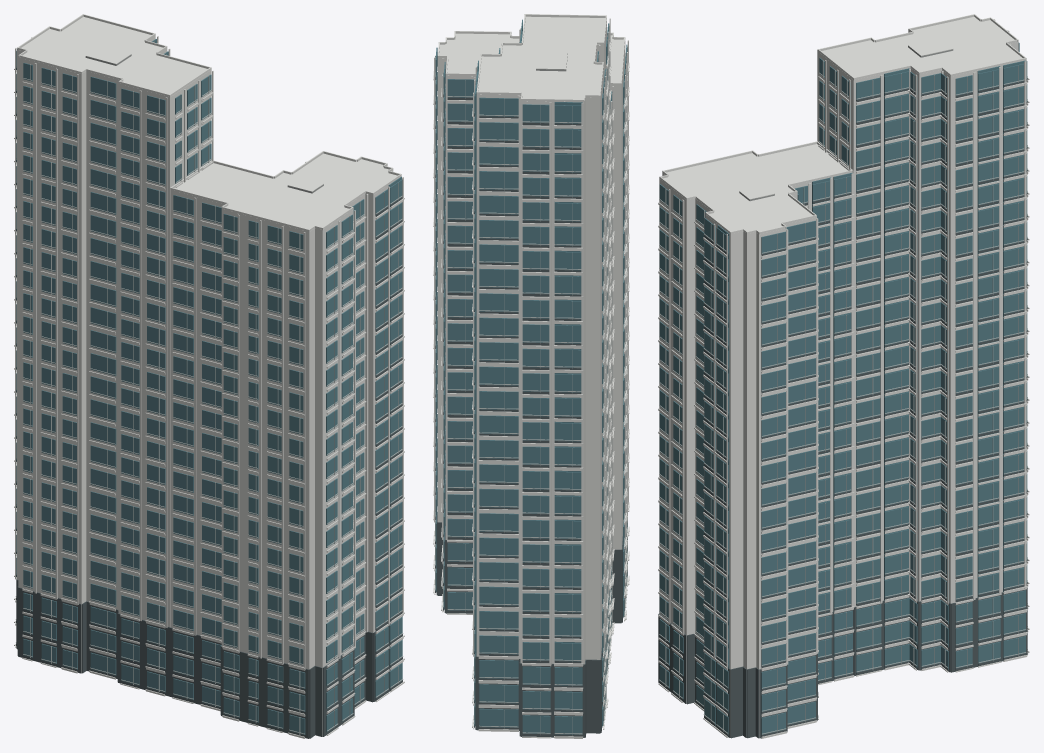
Rendered from bespoke-acro-riverpark-101.glb.
3 renders of one model, left to right at view 1: azimuth 30°, elevation 25°; view 2: azimuth 150°, elevation 25°; view 3: azimuth 270°, elevation 25°, orthographic. The views are drawn at different scales.
Parts seen in each view (by area): view 1: 101_region-0_101_Warm_pale_planes001, 101_region-0_101_Blue_grey_glazing001, 101_region-0_101_Silver_thin_mullions001, 101_region-0_101_Charcoal_lower_storeys001; view 2: 101_region-0_101_Blue_grey_glazing001, 101_region-0_101_Warm_pale_planes001, 101_region-0_101_Charcoal_lower_storeys001, 101_region-0_101_Silver_thin_mullions001; view 3: 101_region-0_101_Blue_grey_glazing001, 101_region-0_101_Warm_pale_planes001, 101_region-0_101_Charcoal_lower_storeys001, 101_region-0_101_Silver_thin_mullions001.
Boxes of the visible parts, box(x1,y1,x2,y2) form: 101_region-0_101_Warm_pale_planes001: box(14, 14, 404, 738); 101_region-0_101_Blue_grey_glazing001: box(16, 39, 402, 734); 101_region-0_101_Silver_thin_mullions001: box(15, 41, 403, 734); 101_region-0_101_Charcoal_lower_storeys001: box(16, 68, 402, 738); 101_region-0_101_Blue_grey_glazing001: box(435, 19, 627, 734); 101_region-0_101_Warm_pale_planes001: box(433, 14, 629, 738); 101_region-0_101_Charcoal_lower_storeys001: box(435, 77, 623, 737); 101_region-0_101_Silver_thin_mullions001: box(434, 25, 627, 735); 101_region-0_101_Blue_grey_glazing001: box(659, 42, 1027, 735); 101_region-0_101_Warm_pale_planes001: box(658, 14, 1029, 738); 101_region-0_101_Charcoal_lower_storeys001: box(658, 78, 1027, 738); 101_region-0_101_Silver_thin_mullions001: box(659, 60, 1027, 734).
Bounding box in the file's own units: 41.43 × 90 × 50.65.
